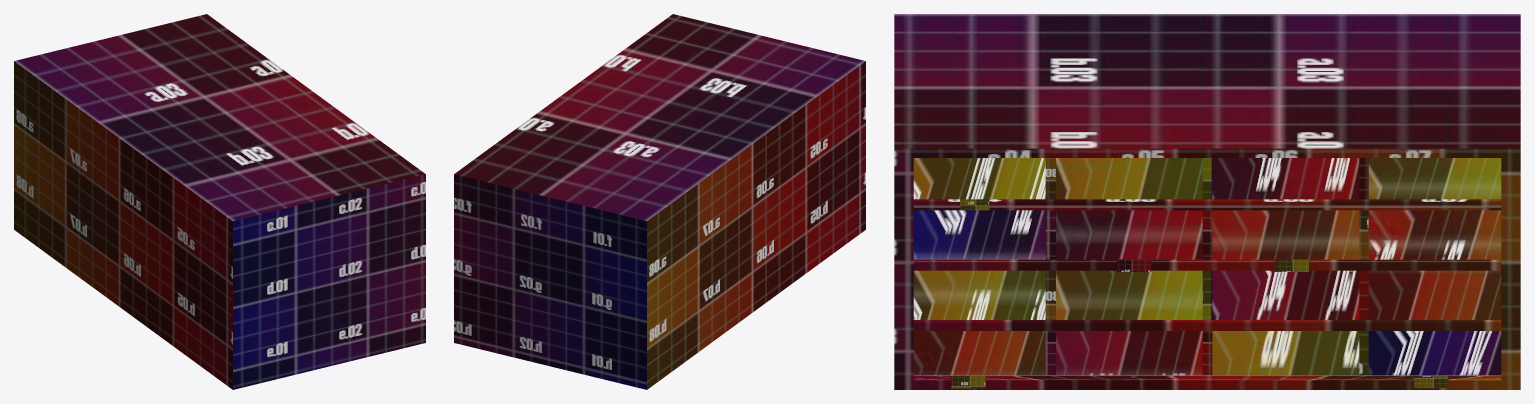
The model's file is mail_boxes01a.fbx.
3 views of the same model, side by side, from view 1: azimuth 30°, elevation 25°; view 2: azimuth 150°, elevation 25°; view 3: azimuth 270°, elevation 25° (orthographic). The views are drawn at different scales.
Parts seen in each view (by area): view 1: mail_boxes01; view 2: mail_boxes01; view 3: mail_boxes01.
Boxes of the visible parts, x1,y1,x2,y2 form: mail_boxes01: (14,14,425,389); mail_boxes01: (454,14,865,389); mail_boxes01: (894,14,1520,389).
Size of the model in its own units: 8.68 by 7.24 by 17.03.
